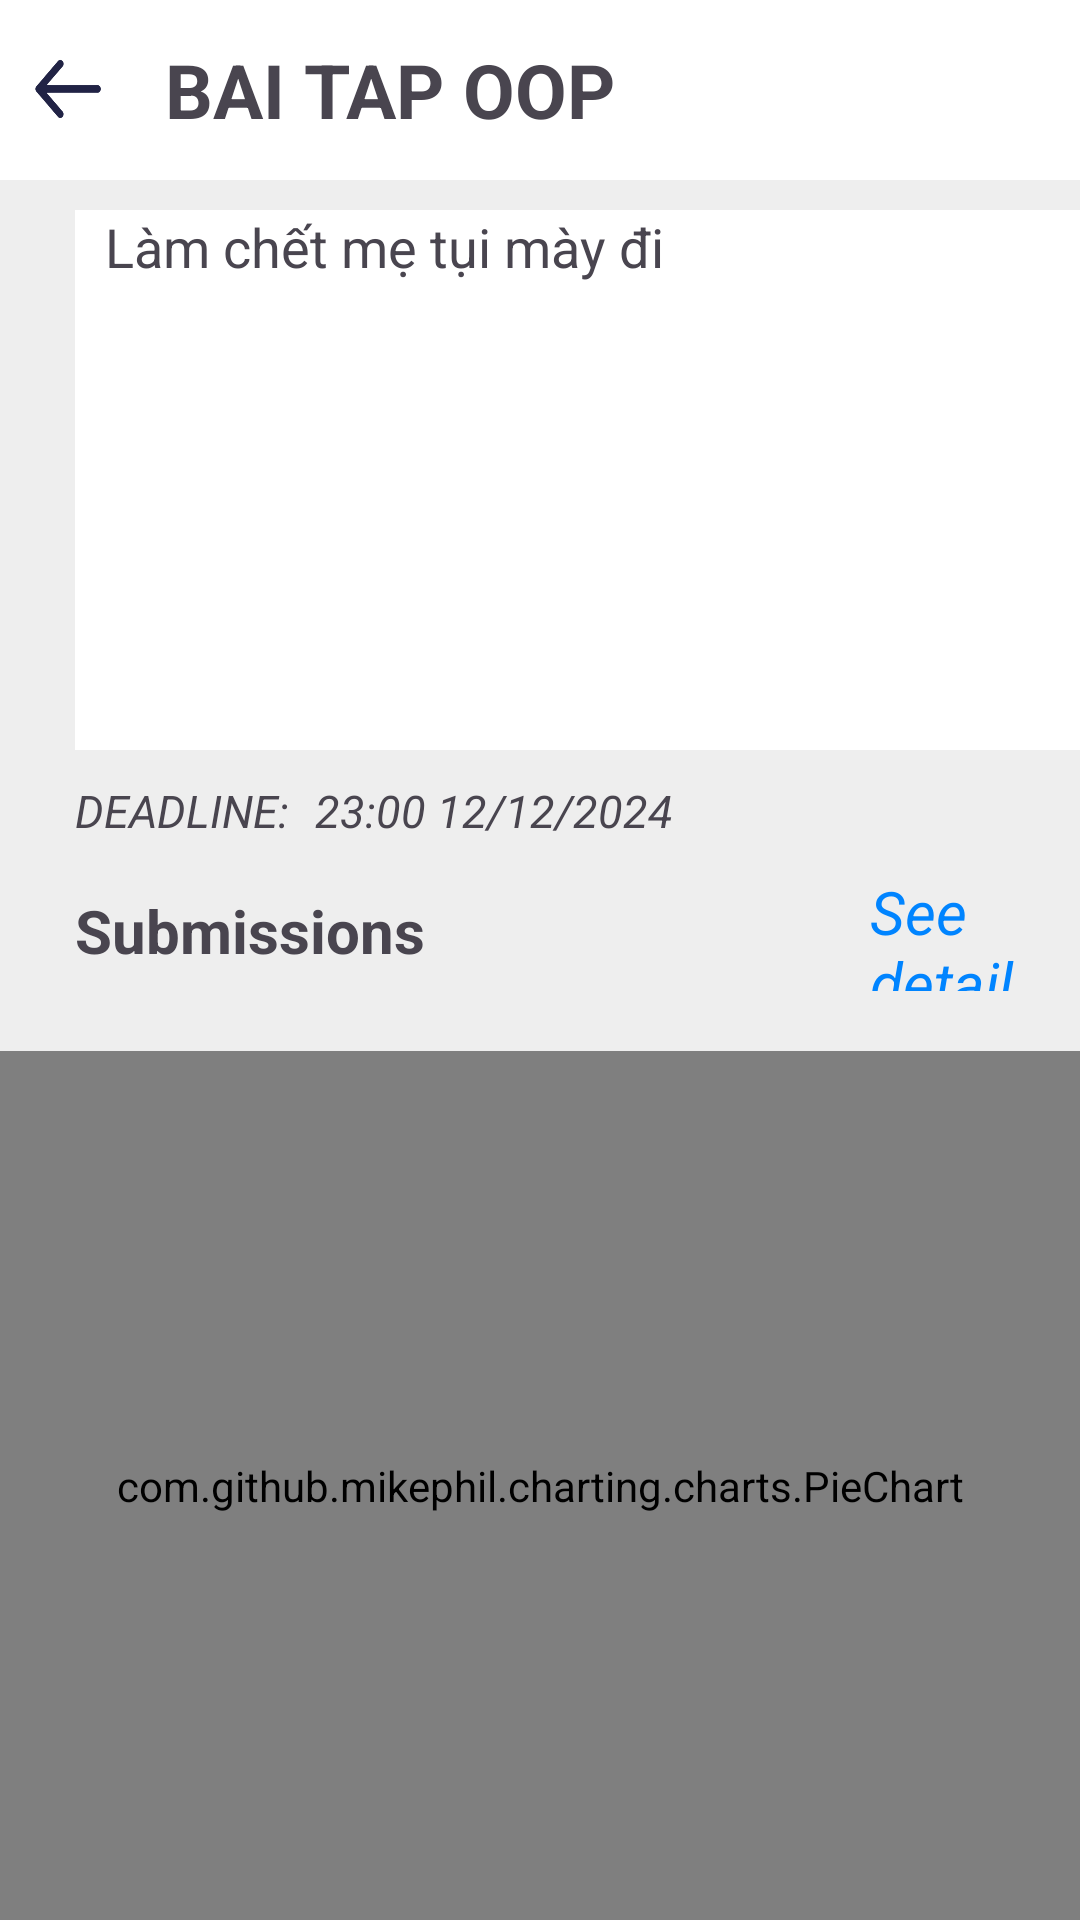

Icons on this 1080x1920 Android screen, each with the point to tap as point (x, y):
back: point (68, 89)
